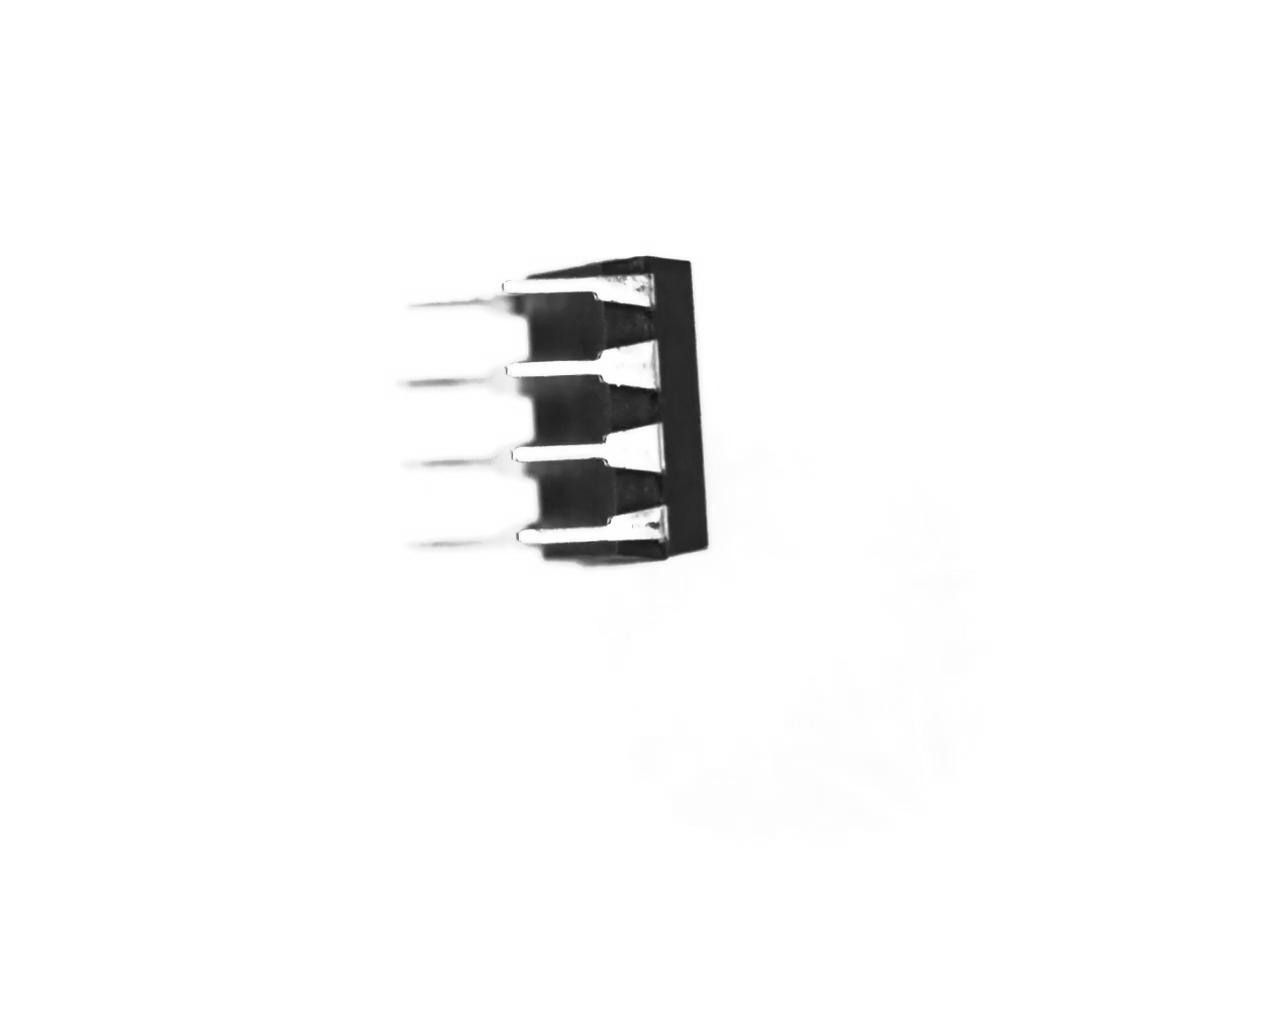Leg: (512, 495, 672, 568), (474, 340, 661, 392), (508, 424, 672, 482), (488, 273, 664, 311), (385, 287, 535, 324), (387, 366, 540, 400), (396, 530, 553, 561), (389, 455, 555, 483)
